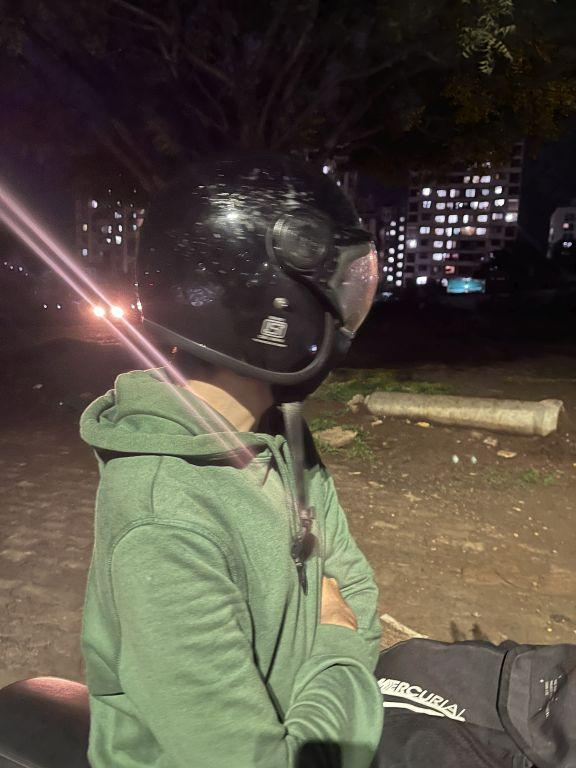helmet: (120, 139, 389, 411)
